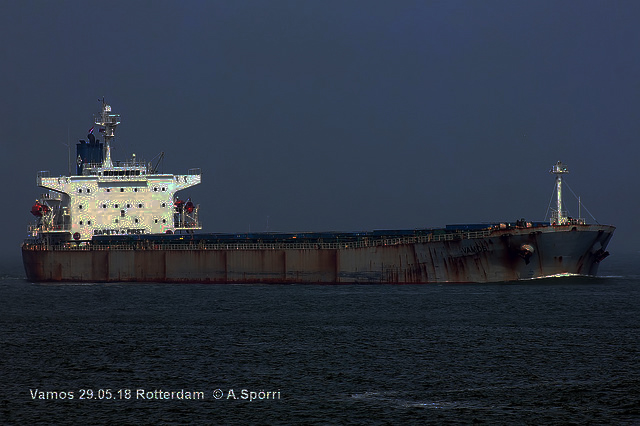bulk carrier: (21, 104, 616, 281)
